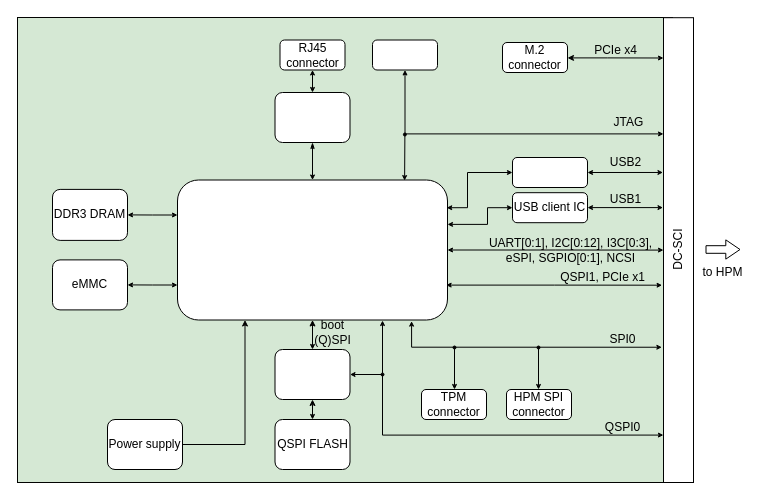
Some shapes in this 770 by 500 pixel diagram are drawn without their labels. The centre of each missing label's shape, as x and y in pixels:
"Artix-7 XC7A100T FPGA" goes at (x=312, y=249).
"JTAG connector" goes at (x=405, y=54).
"PHY" goes at (x=312, y=117).
"RoT" goes at (x=312, y=374).
"USB host IC" goes at (x=550, y=172).
